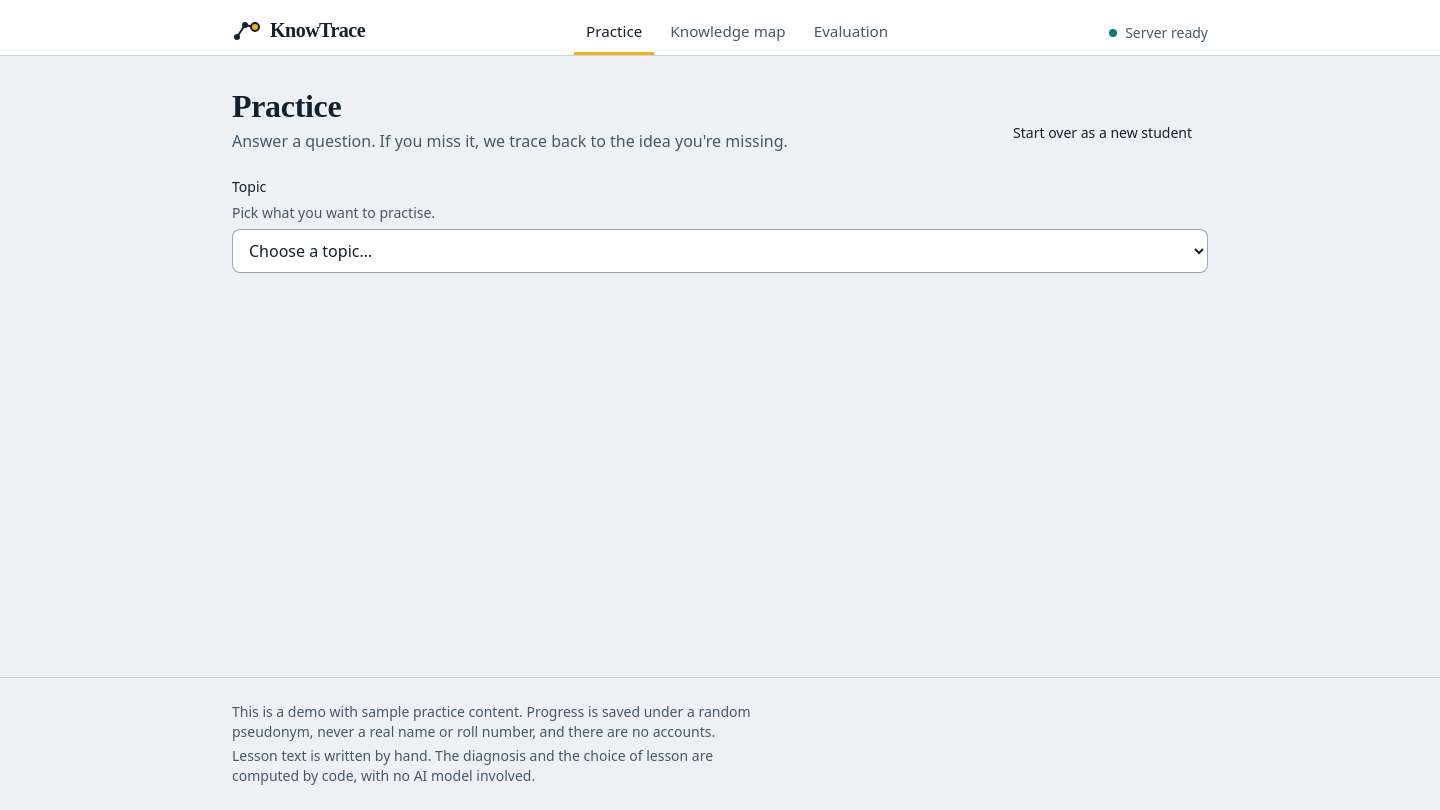
Test case: practice flow (P0-5) › validates before sending, keeps the choice, and shows server errors beside the field
The width and height of the screenshot is (1440, 810).
Select "Fractions" in the dropdown labelled "Topic" at (720, 251), box [232,229,1208,273]
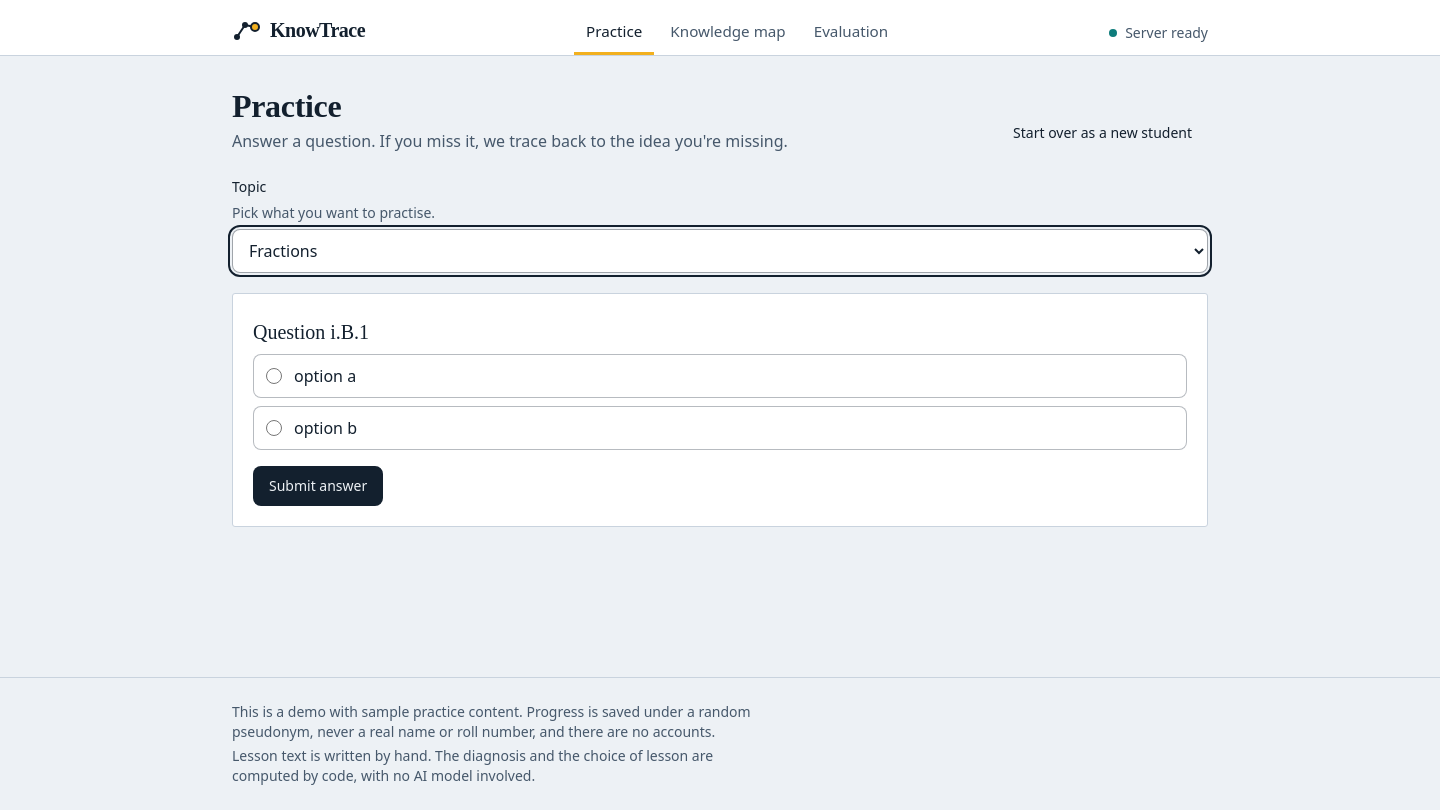
Check: the radio button labelled "option a" is shown, box [266,368,282,384]
Click the button "Submit answer" at (318, 486), box [253,466,383,506]
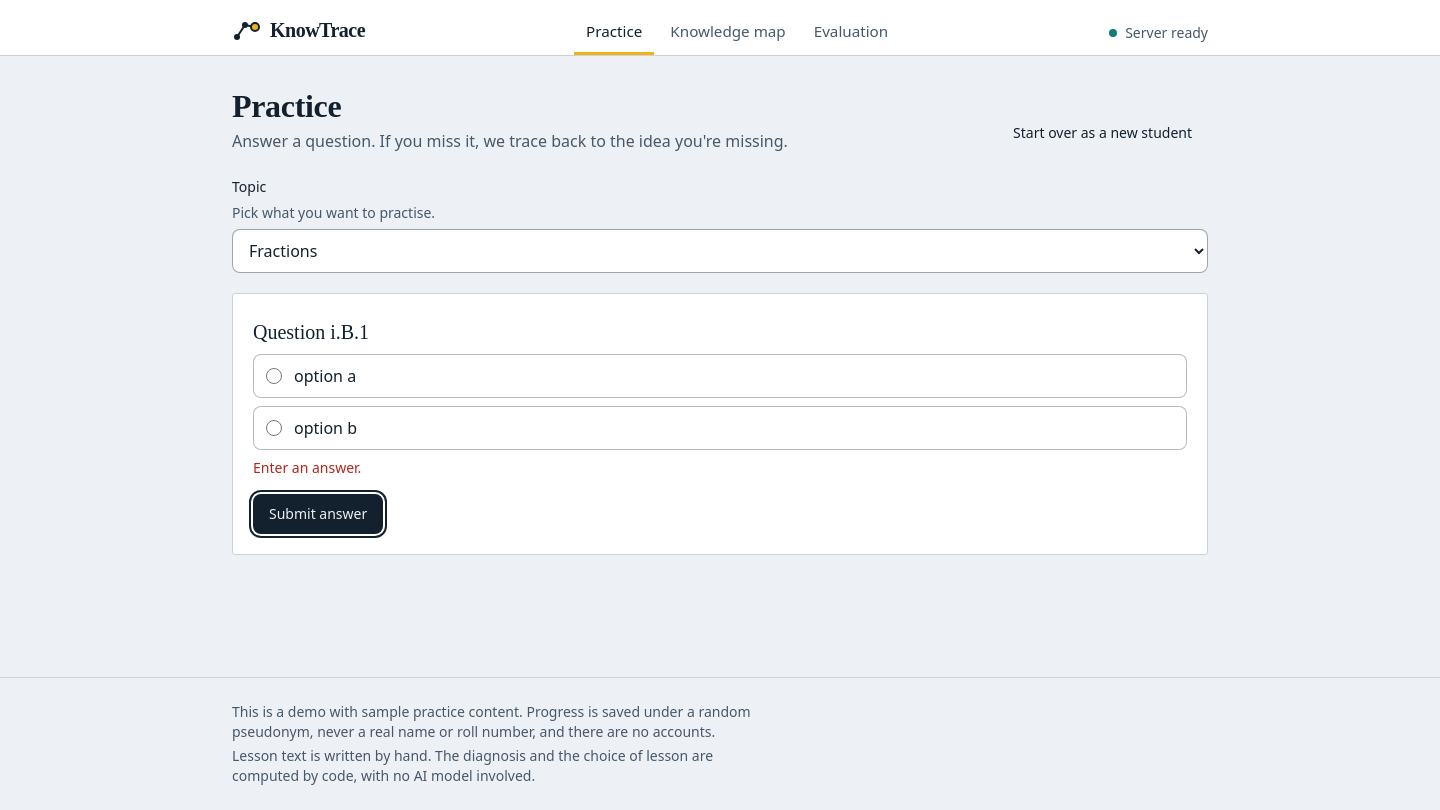
Check: the text "Enter an answer." is shown, box [253,458,361,477]
Click the radio button labelled "option a" at (274, 376), box [266,368,282,384]
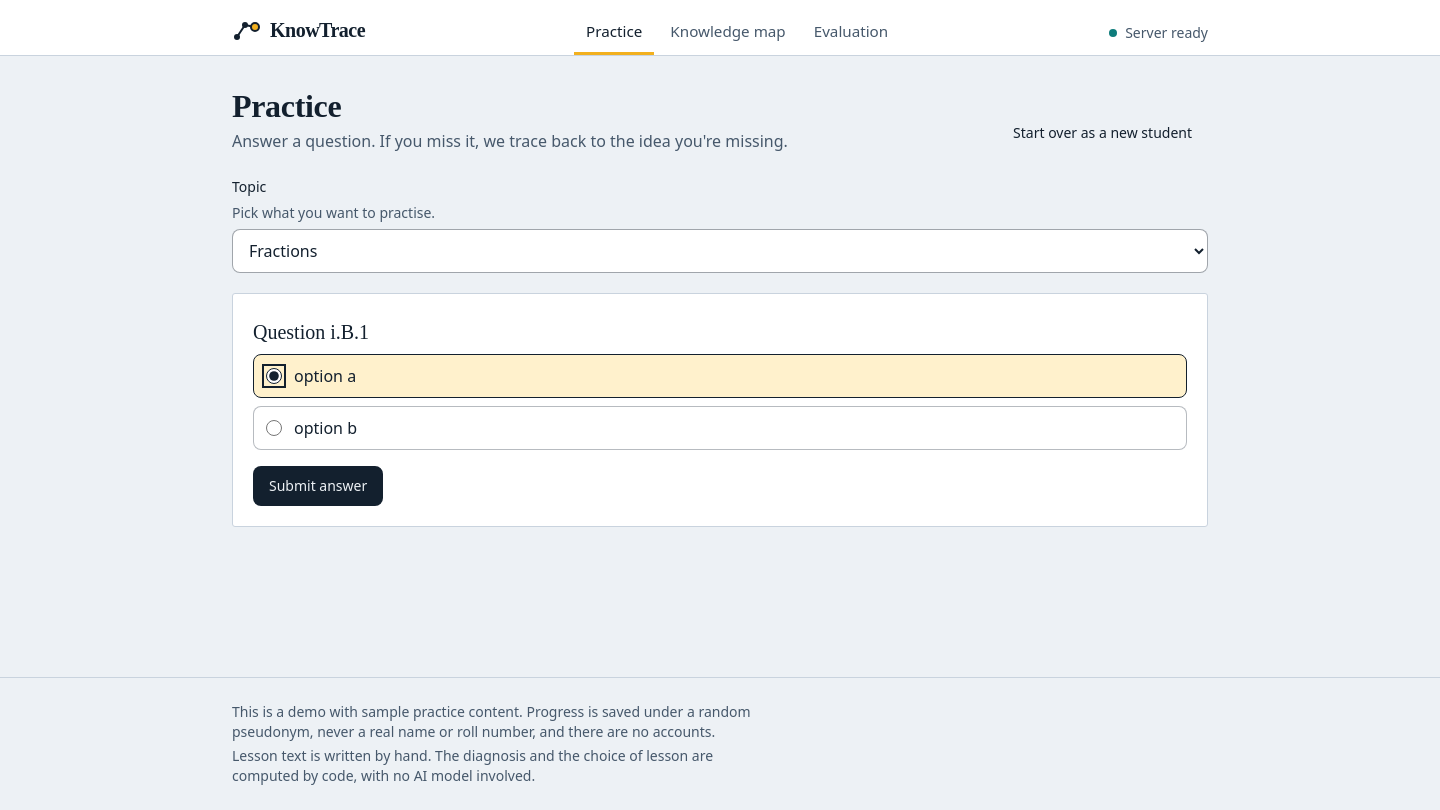
Click the button "Submit answer" at (318, 486), box [253,466,383,506]
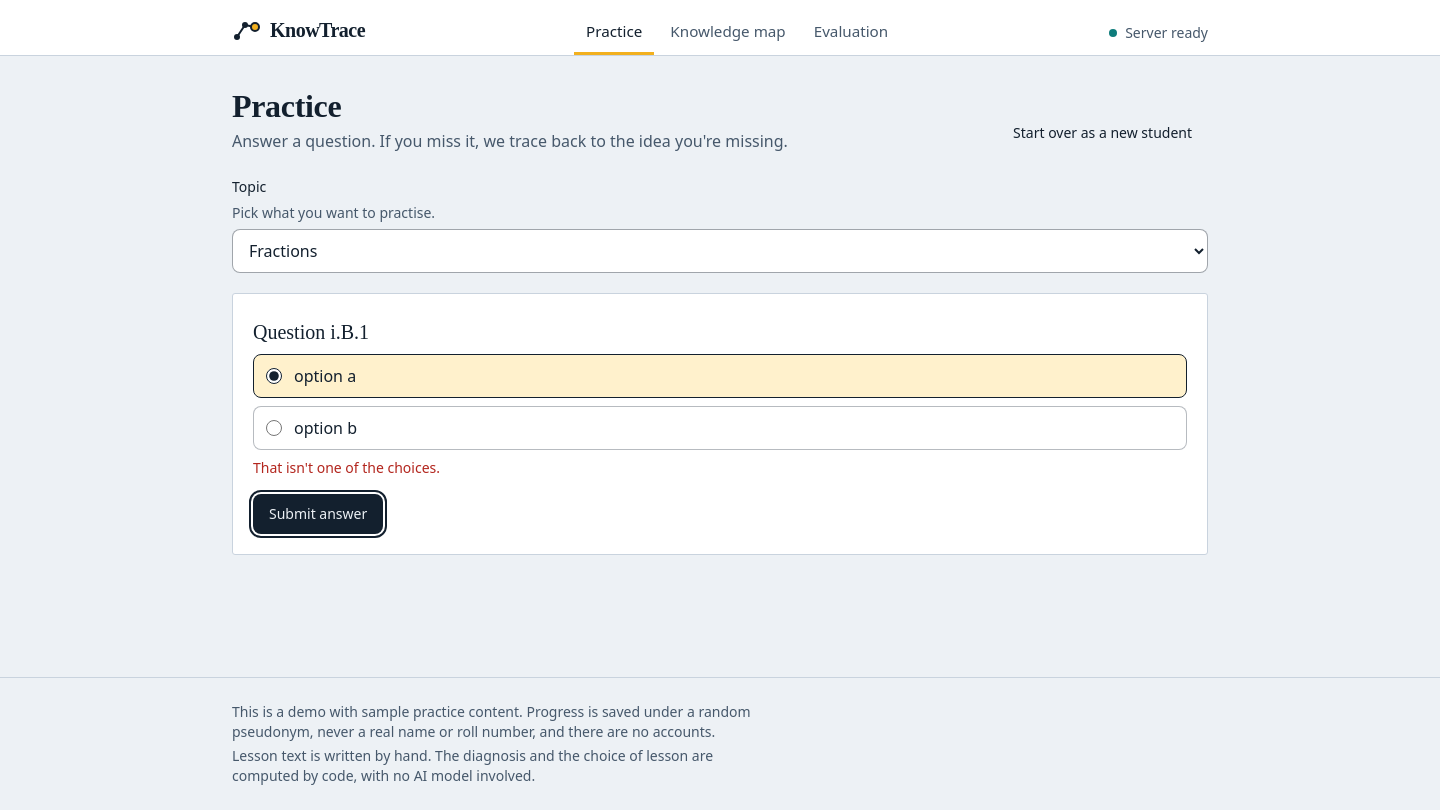
Check: the radio button labelled "option a" is checked, box [266,368,282,384]
Check: the text "That isn't one of the choices." is shown, box [253,458,440,477]
Click the button "Submit answer" at (318, 514), box [253,494,383,534]
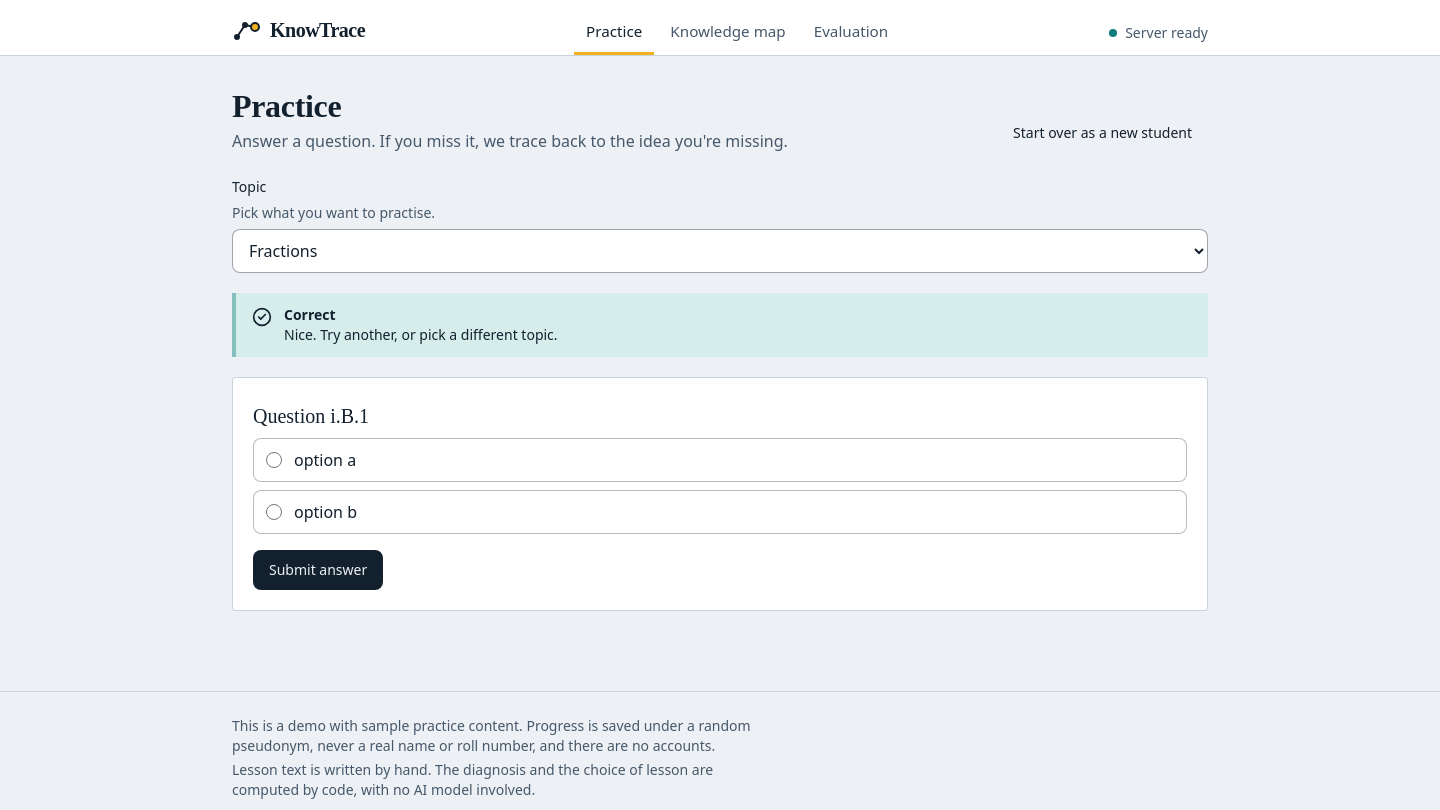
Check: the text "Correct" is shown, box [284,305,336,324]
